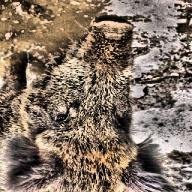boar: (0, 18, 178, 192)
